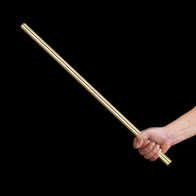straight_bar: (17, 20, 137, 132)
